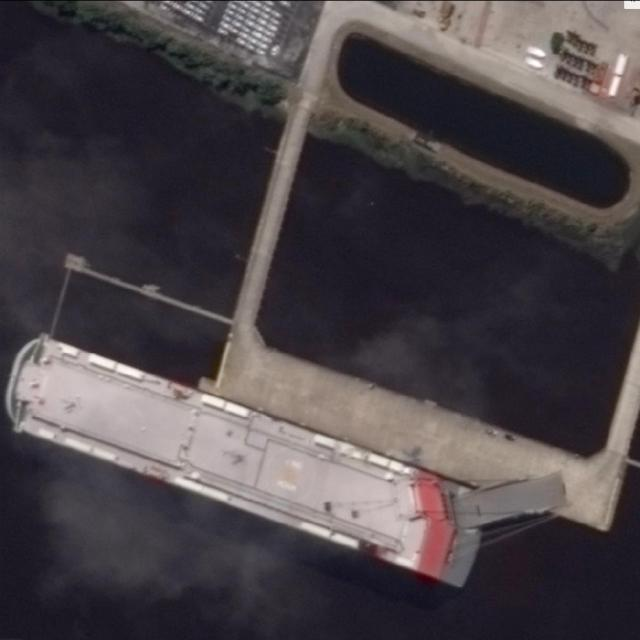RoRo: (1, 326, 499, 590)
